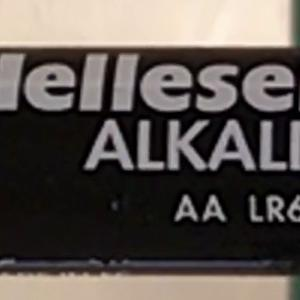keyword: (76, 111, 205, 179)
